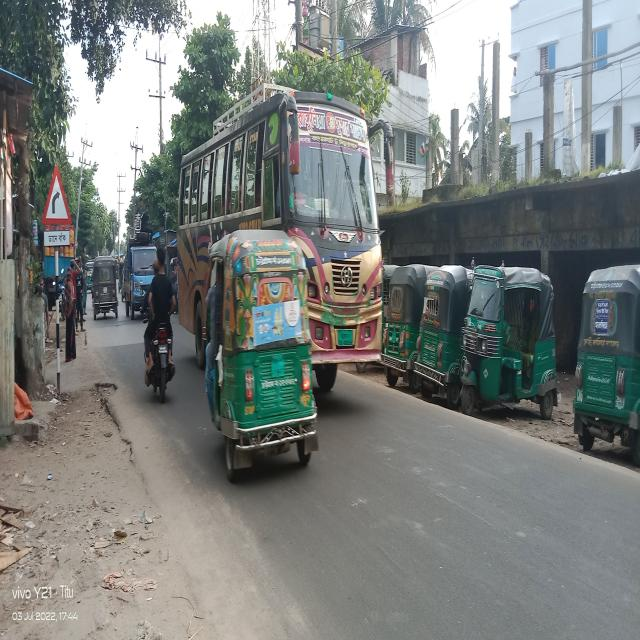bus: (283, 41, 396, 397)
